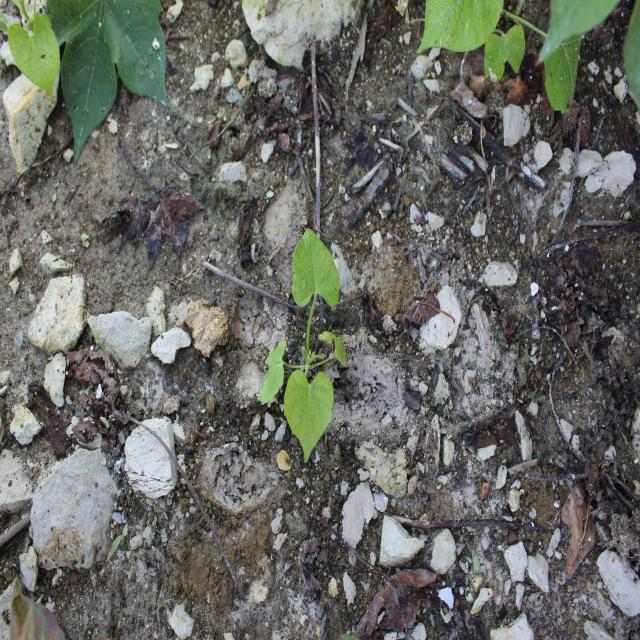MorningGlory: (257, 226, 350, 464)
